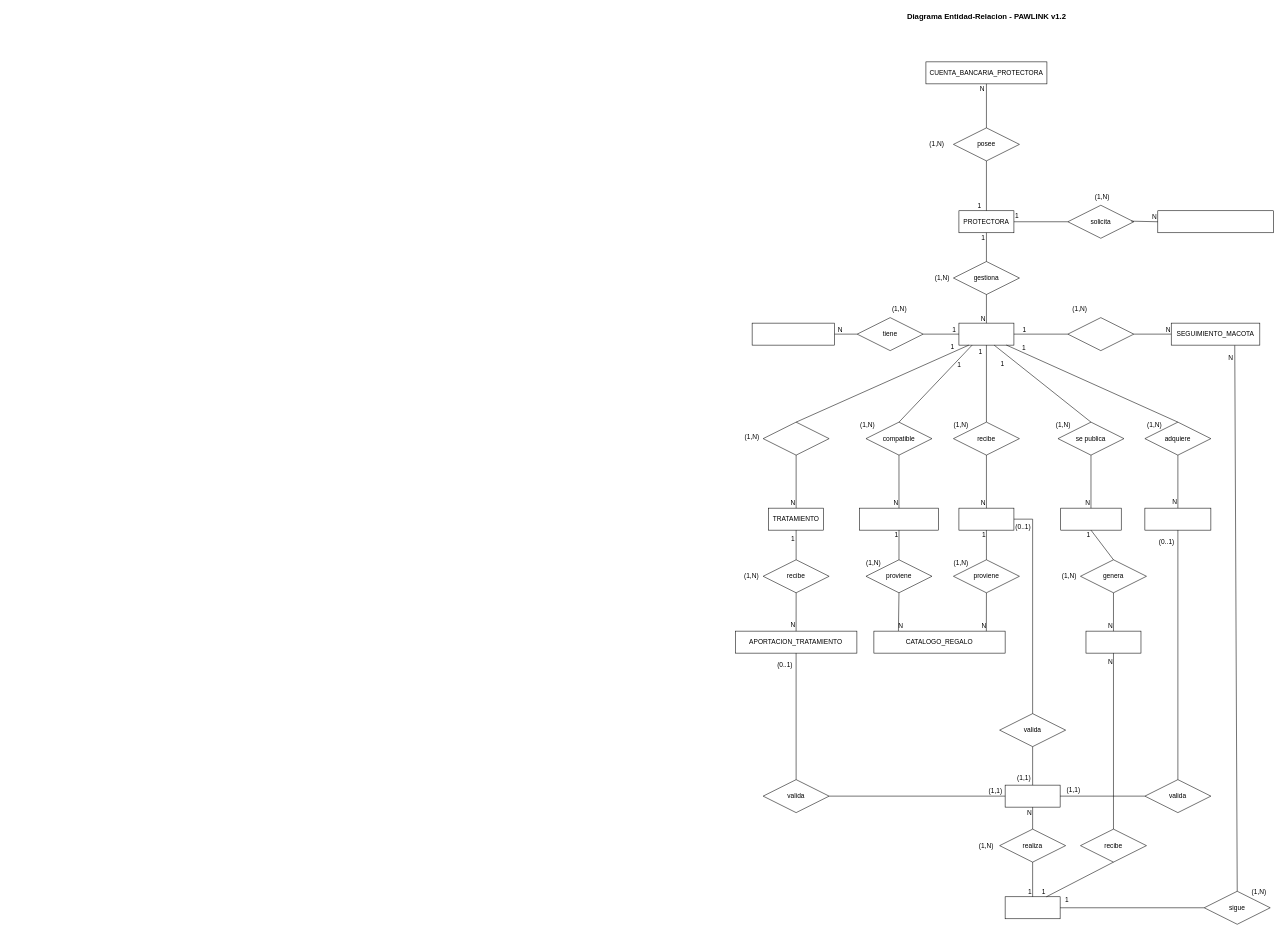
This 1285x934 diagram has some shape labels left out. Here are the shapes that lost their labels. From the top down, the centre of each, then its label:
the point at 1215,221: VERICACION_PROTECTORA
the point at 793,334: MASCOTA_IMAGEN
the point at 986,334: MASCOTA
the point at 1100,334: seguido
the point at 796,438: requiere
the point at 899,519: PRODUCTO_MASCOTA
the point at 986,519: REGALO
the point at 1090,519: ACTUALIZACION
the point at 1177,519: APADRINAMIENTO
the point at 1113,642: NOTIFICACION
the point at 1032,796: PAGO
the point at 1032,907: USUARIO
